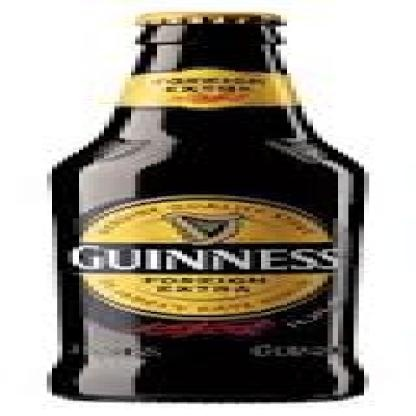trash: (52, 13, 363, 400)
